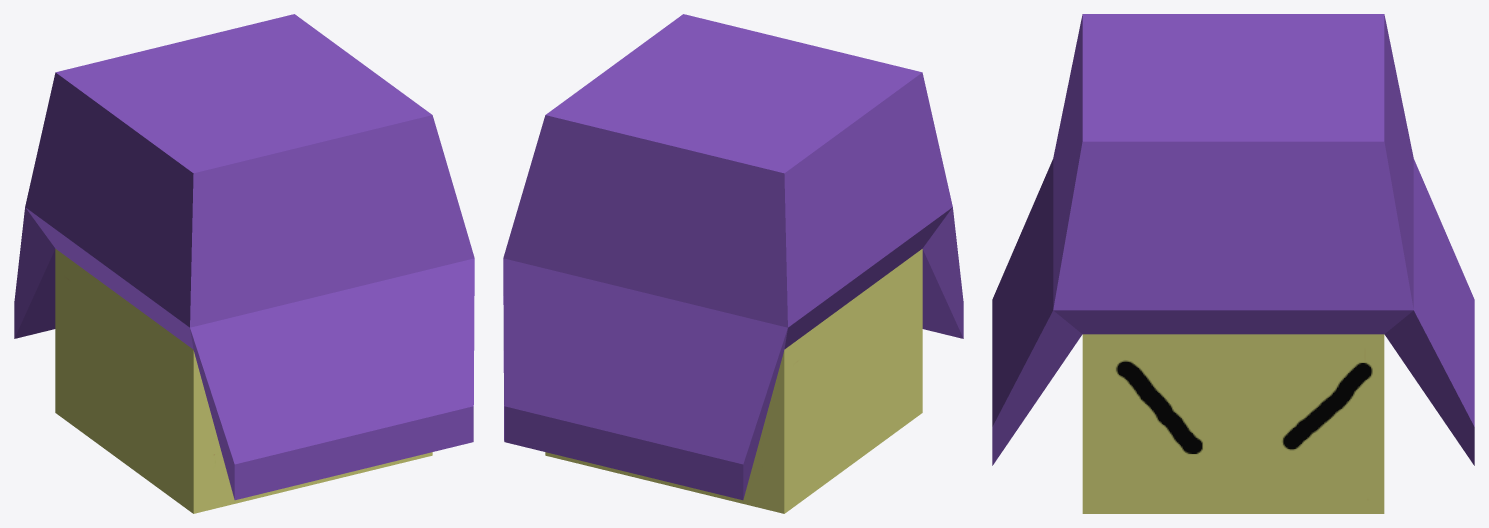
File: boss.obj
3 renders of one model, left to right at view 1: azimuth 30°, elevation 25°; view 2: azimuth 150°, elevation 25°; view 3: azimuth 270°, elevation 25°, orthographic. The views are drawn at different scales.
Visible parts, largest first — view 1: 立方体; view 2: 立方体; view 3: 立方体.
Boxes of the visible parts, x1,y1,x2,y2 form: 立方体: (14,14,474,513); 立方体: (503,14,963,513); 立方体: (992,14,1474,513).
Bounding box in the file's own units: 7.14 × 8.17 × 9.58.
